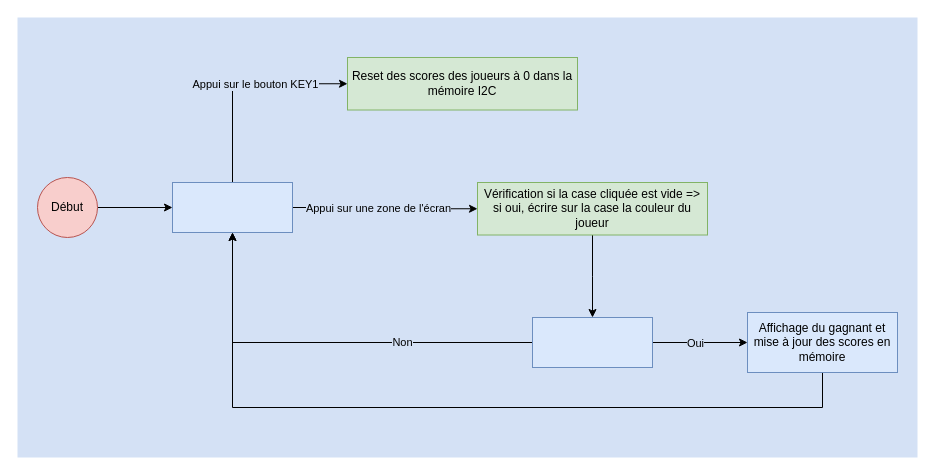
Image size: 934x474. Some labels were removed from this diagram. The box of each missing label's shape, as (x1, y1, x2, y2) in pixels:
Affichage du morpion et des scores: (172, 182, 292, 232)
Vérification si un joueur à gagné: (532, 316, 652, 368)
